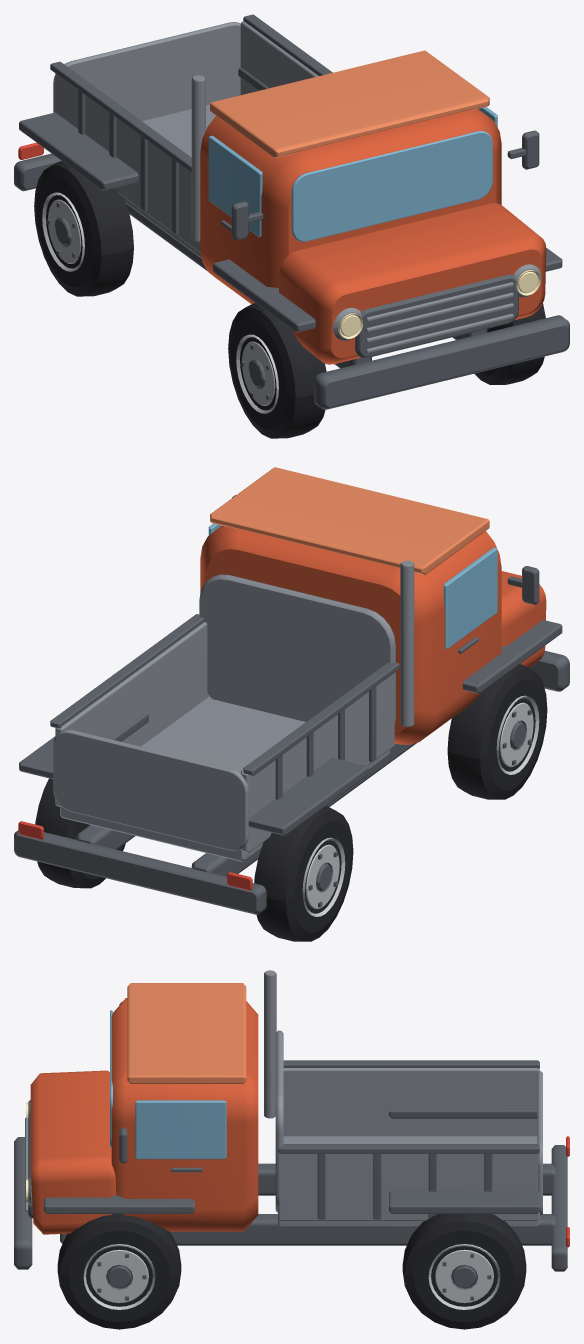
The model's file is camionnette.glb.
3 views of the same model, one above another, from view 1: azimuth 30°, elevation 25°; view 2: azimuth 150°, elevation 25°; view 3: azimuth 270°, elevation 25° (orthographic). The views are drawn at different scales.
Visible parts, largest first — view 1: carrosserie_camion.002, carrosserie_benne_sombre.002, benne_benne.002, carrosserie_verre.002, carrosserie_camion_clair.002, roue_ard_pneu.002, roue_avd_pneu.002, carrosserie_benne.002, benne_benne_sombre.002, roue_avd_jante.002, roue_ard_jante.002, roue_avg_pneu.002 (+3 smaller); view 2: benne_benne.002, carrosserie_camion.002, carrosserie_benne_sombre.002, carrosserie_camion_clair.002, roue_avd_pneu.002, roue_ard_pneu.002, benne_benne_sombre.002, carrosserie_verre.002, carrosserie_benne.002, roue_arg_pneu.002, roue_ard_jante.002, roue_avd_jante.002 (+1 smaller); view 3: benne_benne.002, carrosserie_camion.002, carrosserie_benne_sombre.002, carrosserie_camion_clair.002, roue_arg_pneu.002, roue_avg_pneu.002, benne_benne_sombre.002, carrosserie_verre.002, roue_arg_jante.002, roue_avg_jante.002, carrosserie_benne.002, roue_avg_benne_sombre.002 (+1 smaller).
Part boxes in pixels (bbox=[...]): carrosserie_camion.002: bbox=[200, 109, 546, 364]; carrosserie_benne_sombre.002: bbox=[14, 67, 569, 409]; benne_benne.002: bbox=[53, 21, 318, 258]; carrosserie_verre.002: bbox=[208, 107, 497, 241]; carrosserie_camion_clair.002: bbox=[210, 50, 489, 158]; roue_ard_pneu.002: bbox=[34, 161, 133, 296]; roue_avd_pneu.002: bbox=[228, 303, 326, 438]; carrosserie_benne.002: bbox=[191, 75, 541, 353]; benne_benne_sombre.002: bbox=[50, 14, 332, 234]; roue_avd_jante.002: bbox=[236, 334, 278, 413]; roue_ard_jante.002: bbox=[42, 192, 84, 271]; roue_avg_pneu.002: bbox=[474, 303, 545, 384]; benne_benne.002: bbox=[53, 574, 395, 861]; carrosserie_camion.002: bbox=[200, 526, 546, 744]; carrosserie_benne_sombre.002: bbox=[14, 495, 569, 914]; carrosserie_camion_clair.002: bbox=[210, 467, 489, 574]; roue_avd_pneu.002: bbox=[447, 664, 547, 799]; roue_ard_pneu.002: bbox=[254, 806, 353, 941]; benne_benne_sombre.002: bbox=[50, 614, 399, 799]; carrosserie_verre.002: bbox=[208, 523, 497, 648]; carrosserie_benne.002: bbox=[400, 560, 414, 727]; roue_arg_pneu.002: bbox=[35, 778, 125, 888]; roue_ard_jante.002: bbox=[302, 837, 345, 916]; roue_avd_jante.002: bbox=[496, 695, 539, 774]; benne_benne.002: bbox=[275, 1030, 542, 1227]; carrosserie_camion.002: bbox=[30, 998, 258, 1234]; carrosserie_benne_sombre.002: bbox=[14, 1001, 567, 1271]; carrosserie_camion_clair.002: bbox=[127, 983, 246, 1083]; roue_arg_pneu.002: bbox=[402, 1214, 526, 1329]; roue_avg_pneu.002: bbox=[57, 1214, 181, 1329]; benne_benne_sombre.002: bbox=[278, 1060, 539, 1219]; carrosserie_verre.002: bbox=[110, 1010, 226, 1159]; roue_arg_jante.002: bbox=[428, 1244, 500, 1309]; roue_avg_jante.002: bbox=[83, 1244, 155, 1309]; carrosserie_benne.002: bbox=[25, 970, 276, 1211]; roue_avg_benne_sombre.002: bbox=[97, 1253, 146, 1300].
Bounding box in the file's own units: 1.98 × 1.8 × 3.5.
